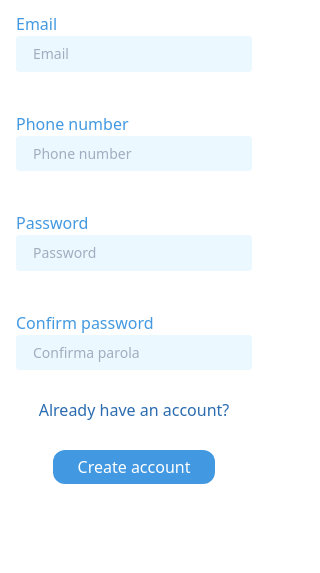
it: Credentials › displays error message when there is no form input
Note: Try submitting the form without filling out any fields
Click the button "Create account" at (134, 467), box [52,450,215,484]
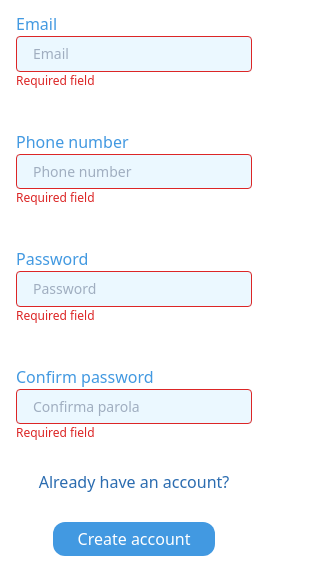
expect the text "Required field" is shown 4 times: met, box [16,72,95,88]; [16,189,95,206]; [16,306,95,324]; [16,424,95,441]
